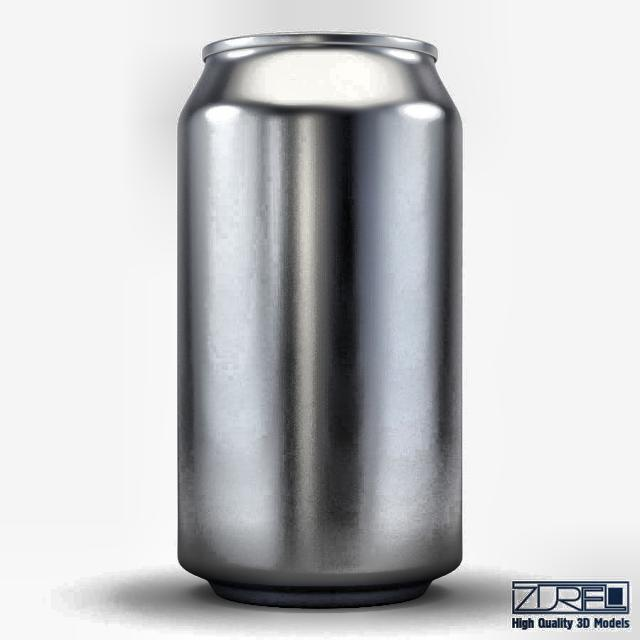Cans: (151, 13, 480, 618)
